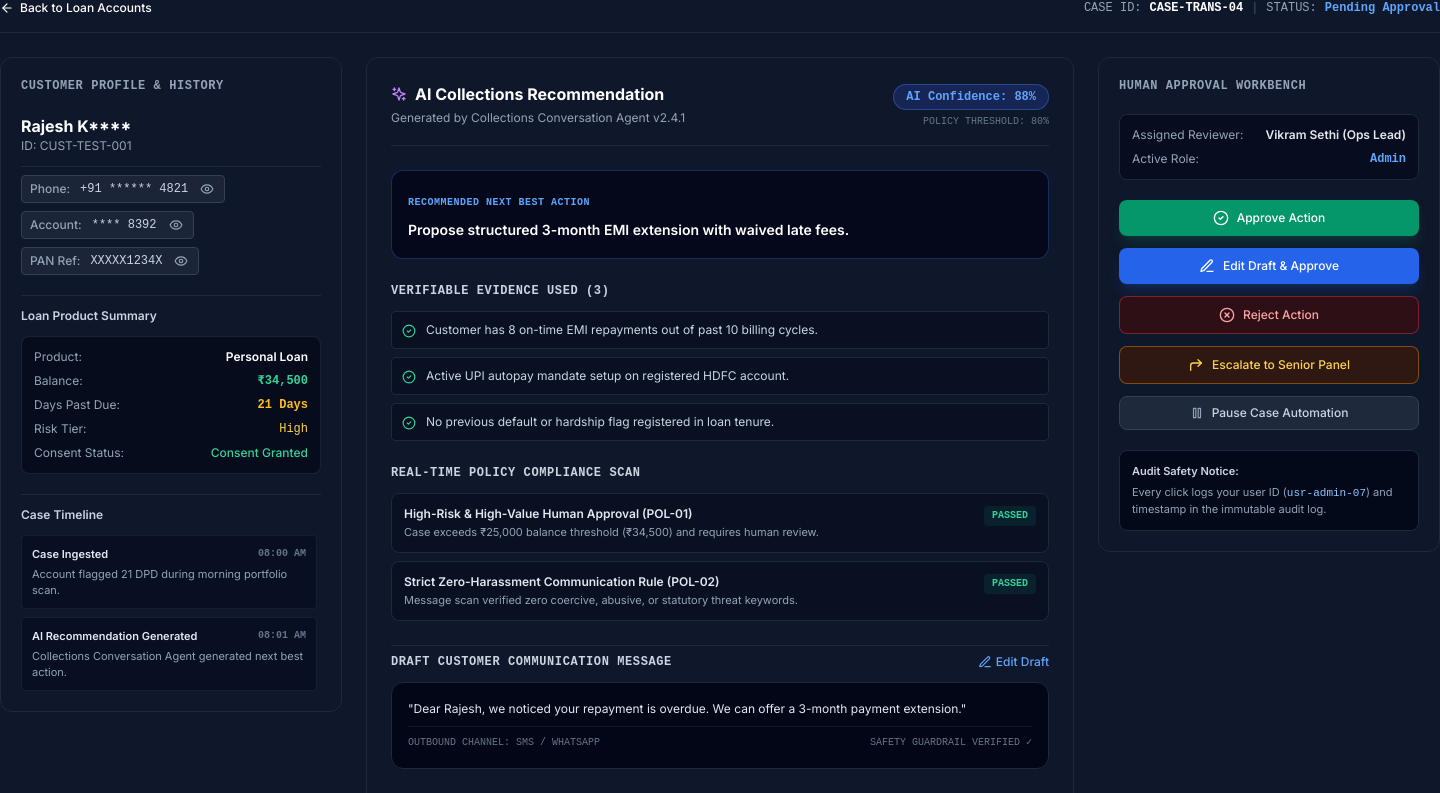
Test case: 7. Case Workbench Status Transitions & Human Approvals › transitions case status to "Escalated" when Escalation button is clicked
Click the button "Escalate to Senior Panel" at (1269, 365), box [1119,346,1419,384]
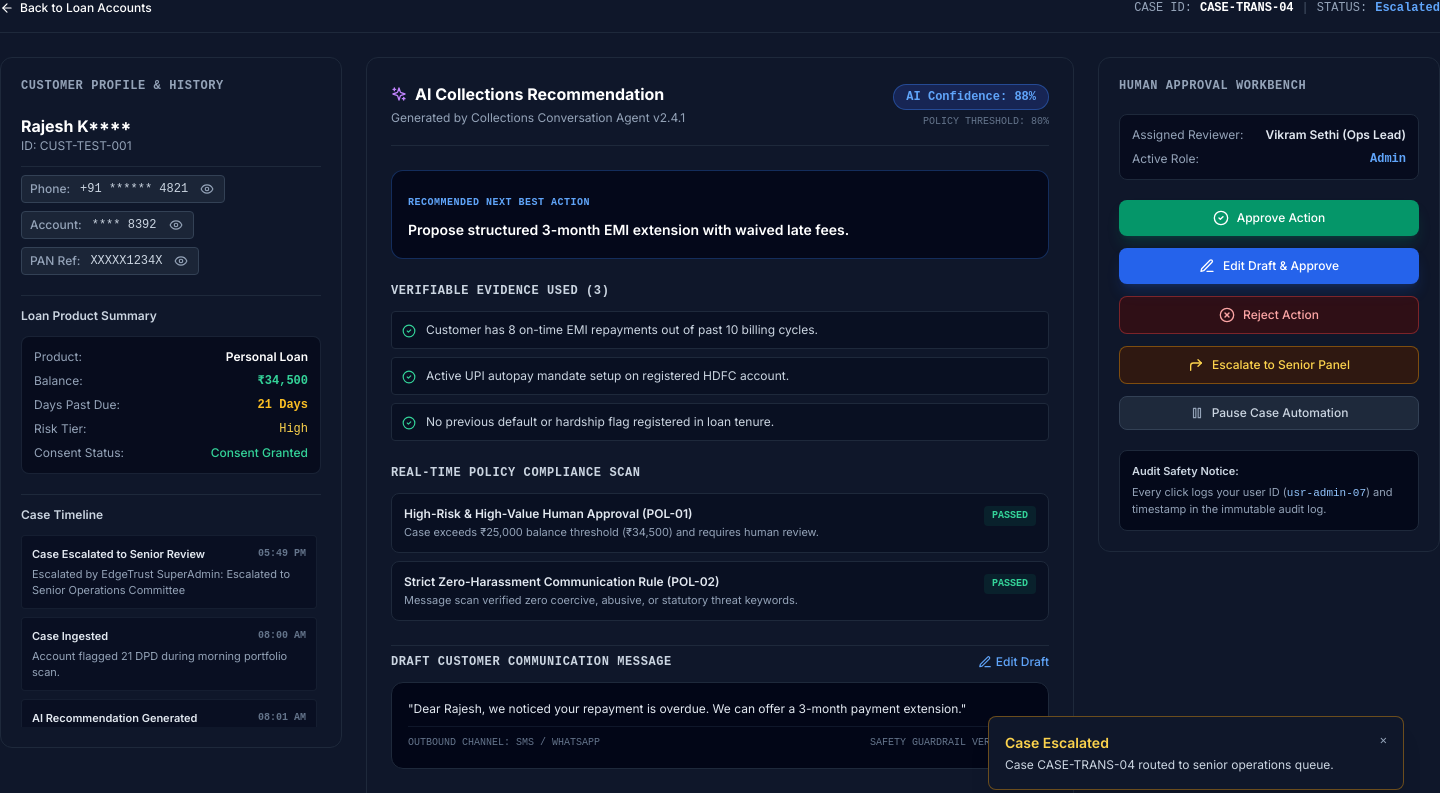
Expected: the text "Escalated" is shown, [1375,0,1439,16]
